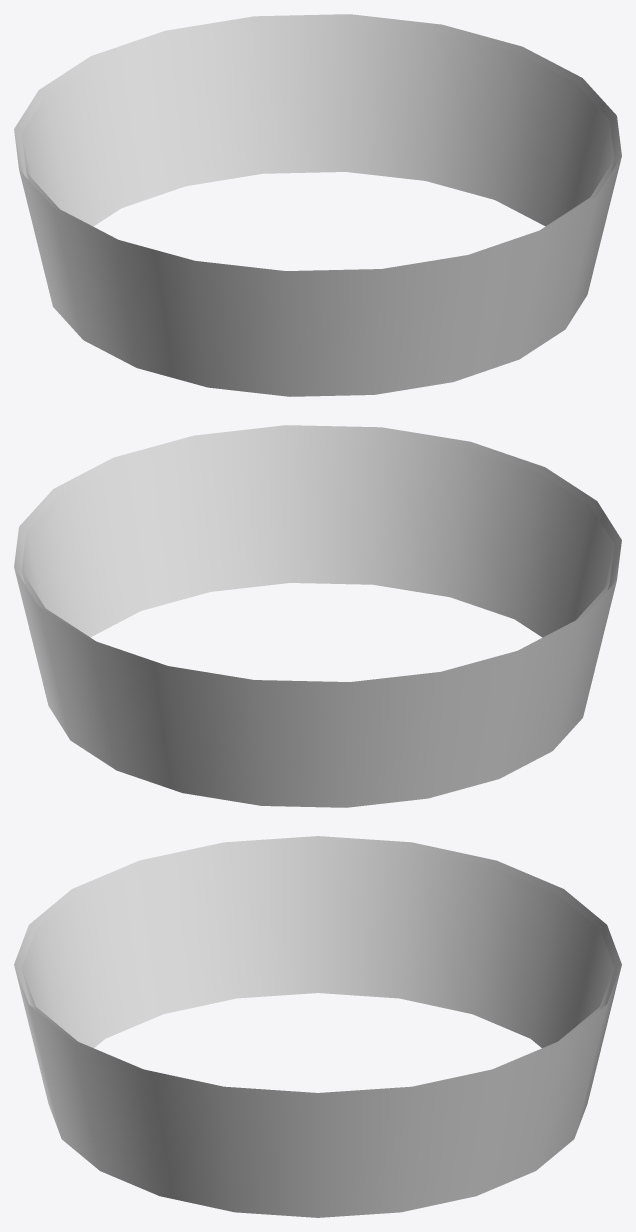
Rendered from auraFloor.fbx.
The picture shows the model from 3 angles, top to bottom: view 1: azimuth 30°, elevation 25°; view 2: azimuth 150°, elevation 25°; view 3: azimuth 270°, elevation 25°; orthographic projection.
Visible parts, largest first — view 1: aurafloor; view 2: aurafloor; view 3: aurafloor.
Part boxes in pixels (x1,y1,x2,y2): aurafloor: (14,14,621,396); aurafloor: (14,425,621,807); aurafloor: (14,836,621,1217).
Size of the model in its own units: 136 by 34.5 by 136.
